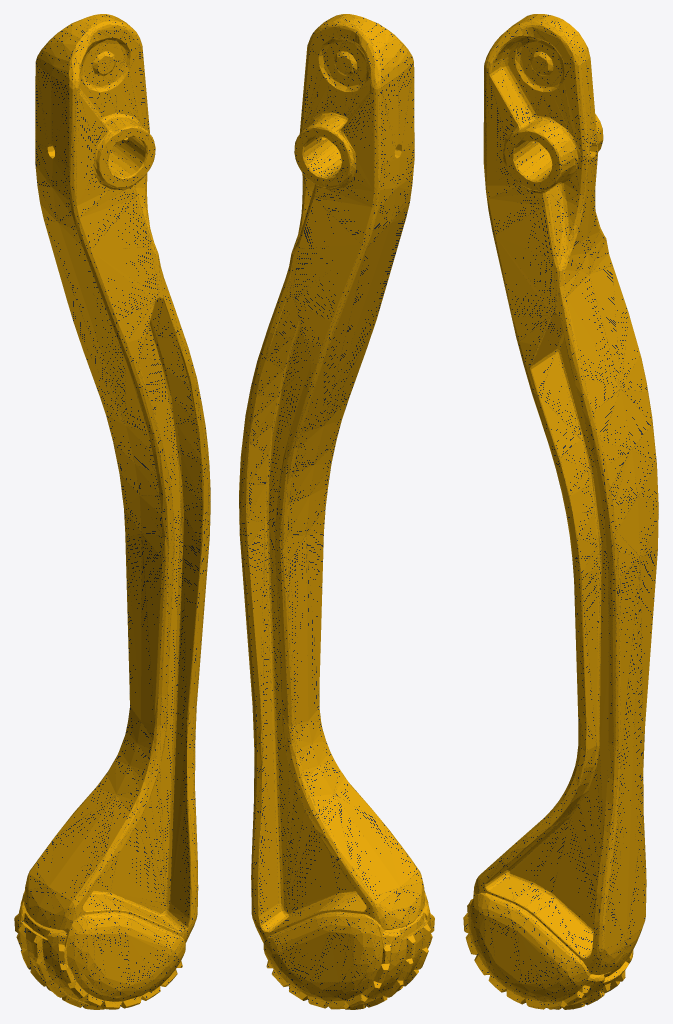
The model's file is rear_left_lower_leg.obj.
The picture shows the model from 3 angles, left to right: view 1: azimuth 30°, elevation 25°; view 2: azimuth 150°, elevation 25°; view 3: azimuth 330°, elevation 25°; orthographic projection.
Parts seen in each view (by area): view 1: rear_left_lower_leg; view 2: rear_left_lower_leg; view 3: rear_left_lower_leg.
Part boxes in pixels (left/top/right/bottom): rear_left_lower_leg: left=14, top=14, right=210, bottom=1009; rear_left_lower_leg: left=239, top=14, right=434, bottom=1009; rear_left_lower_leg: left=463, top=14, right=658, bottom=1009.
Bounding box in the file's own units: 0.0746 × 0.4249 × 0.046.
